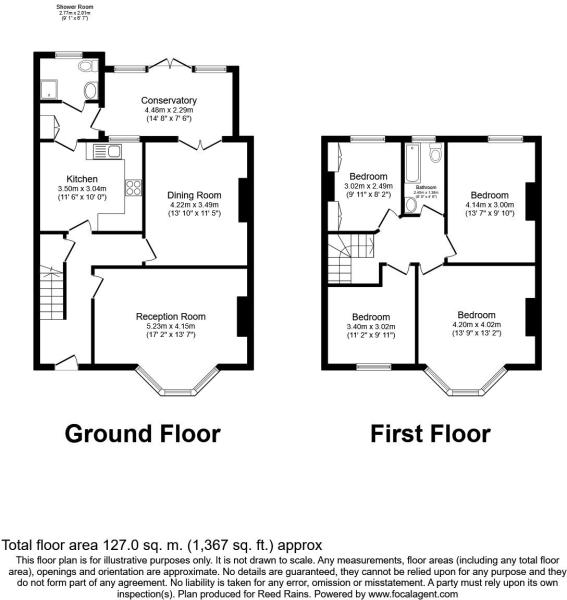GrossArea: (1, 537, 324, 554)
